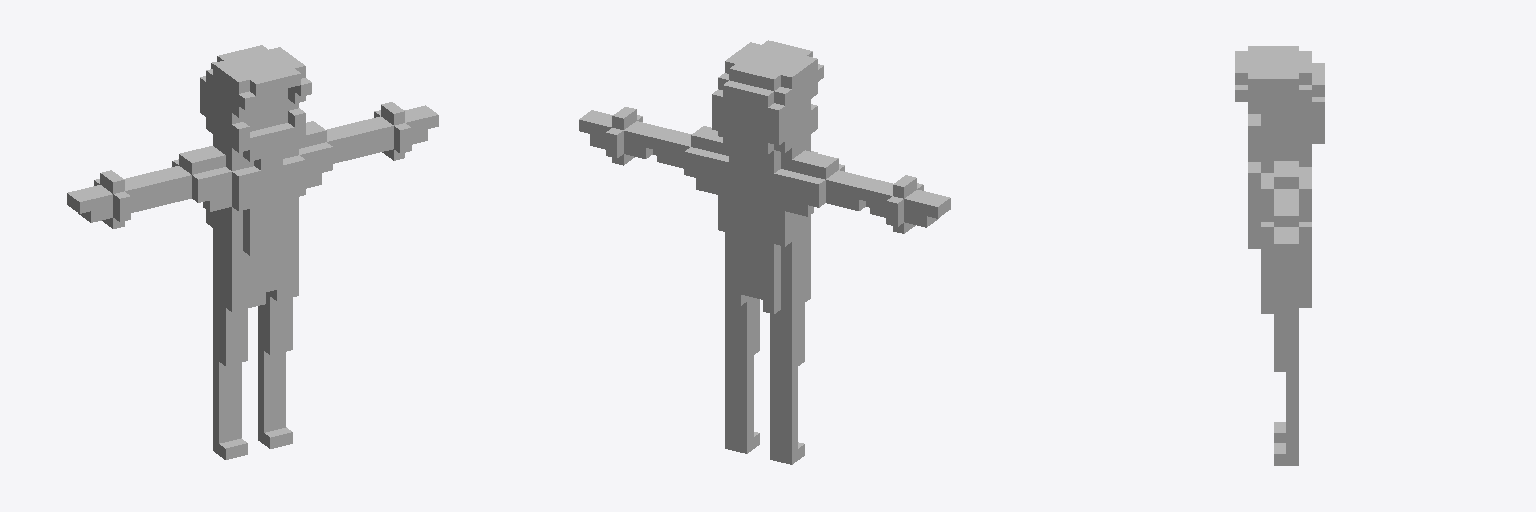
File: Character2.obj
The picture shows the model from 3 angles: view 1: azimuth 30°, elevation 25°; view 2: azimuth 150°, elevation 25°; view 3: azimuth 270°, elevation 25°; orthographic projection.
Visible parts, largest first — view 1: Character01_Mesh.001; view 2: Character01_Mesh.001; view 3: Character01_Mesh.001.
Boxes of the visible parts, x1,y1,x2,y2 form: Character01_Mesh.001: [67, 45, 438, 459]; Character01_Mesh.001: [579, 40, 950, 464]; Character01_Mesh.001: [1235, 46, 1324, 465].
Size of the model in its own units: 7.56 by 7.8 by 1.65.